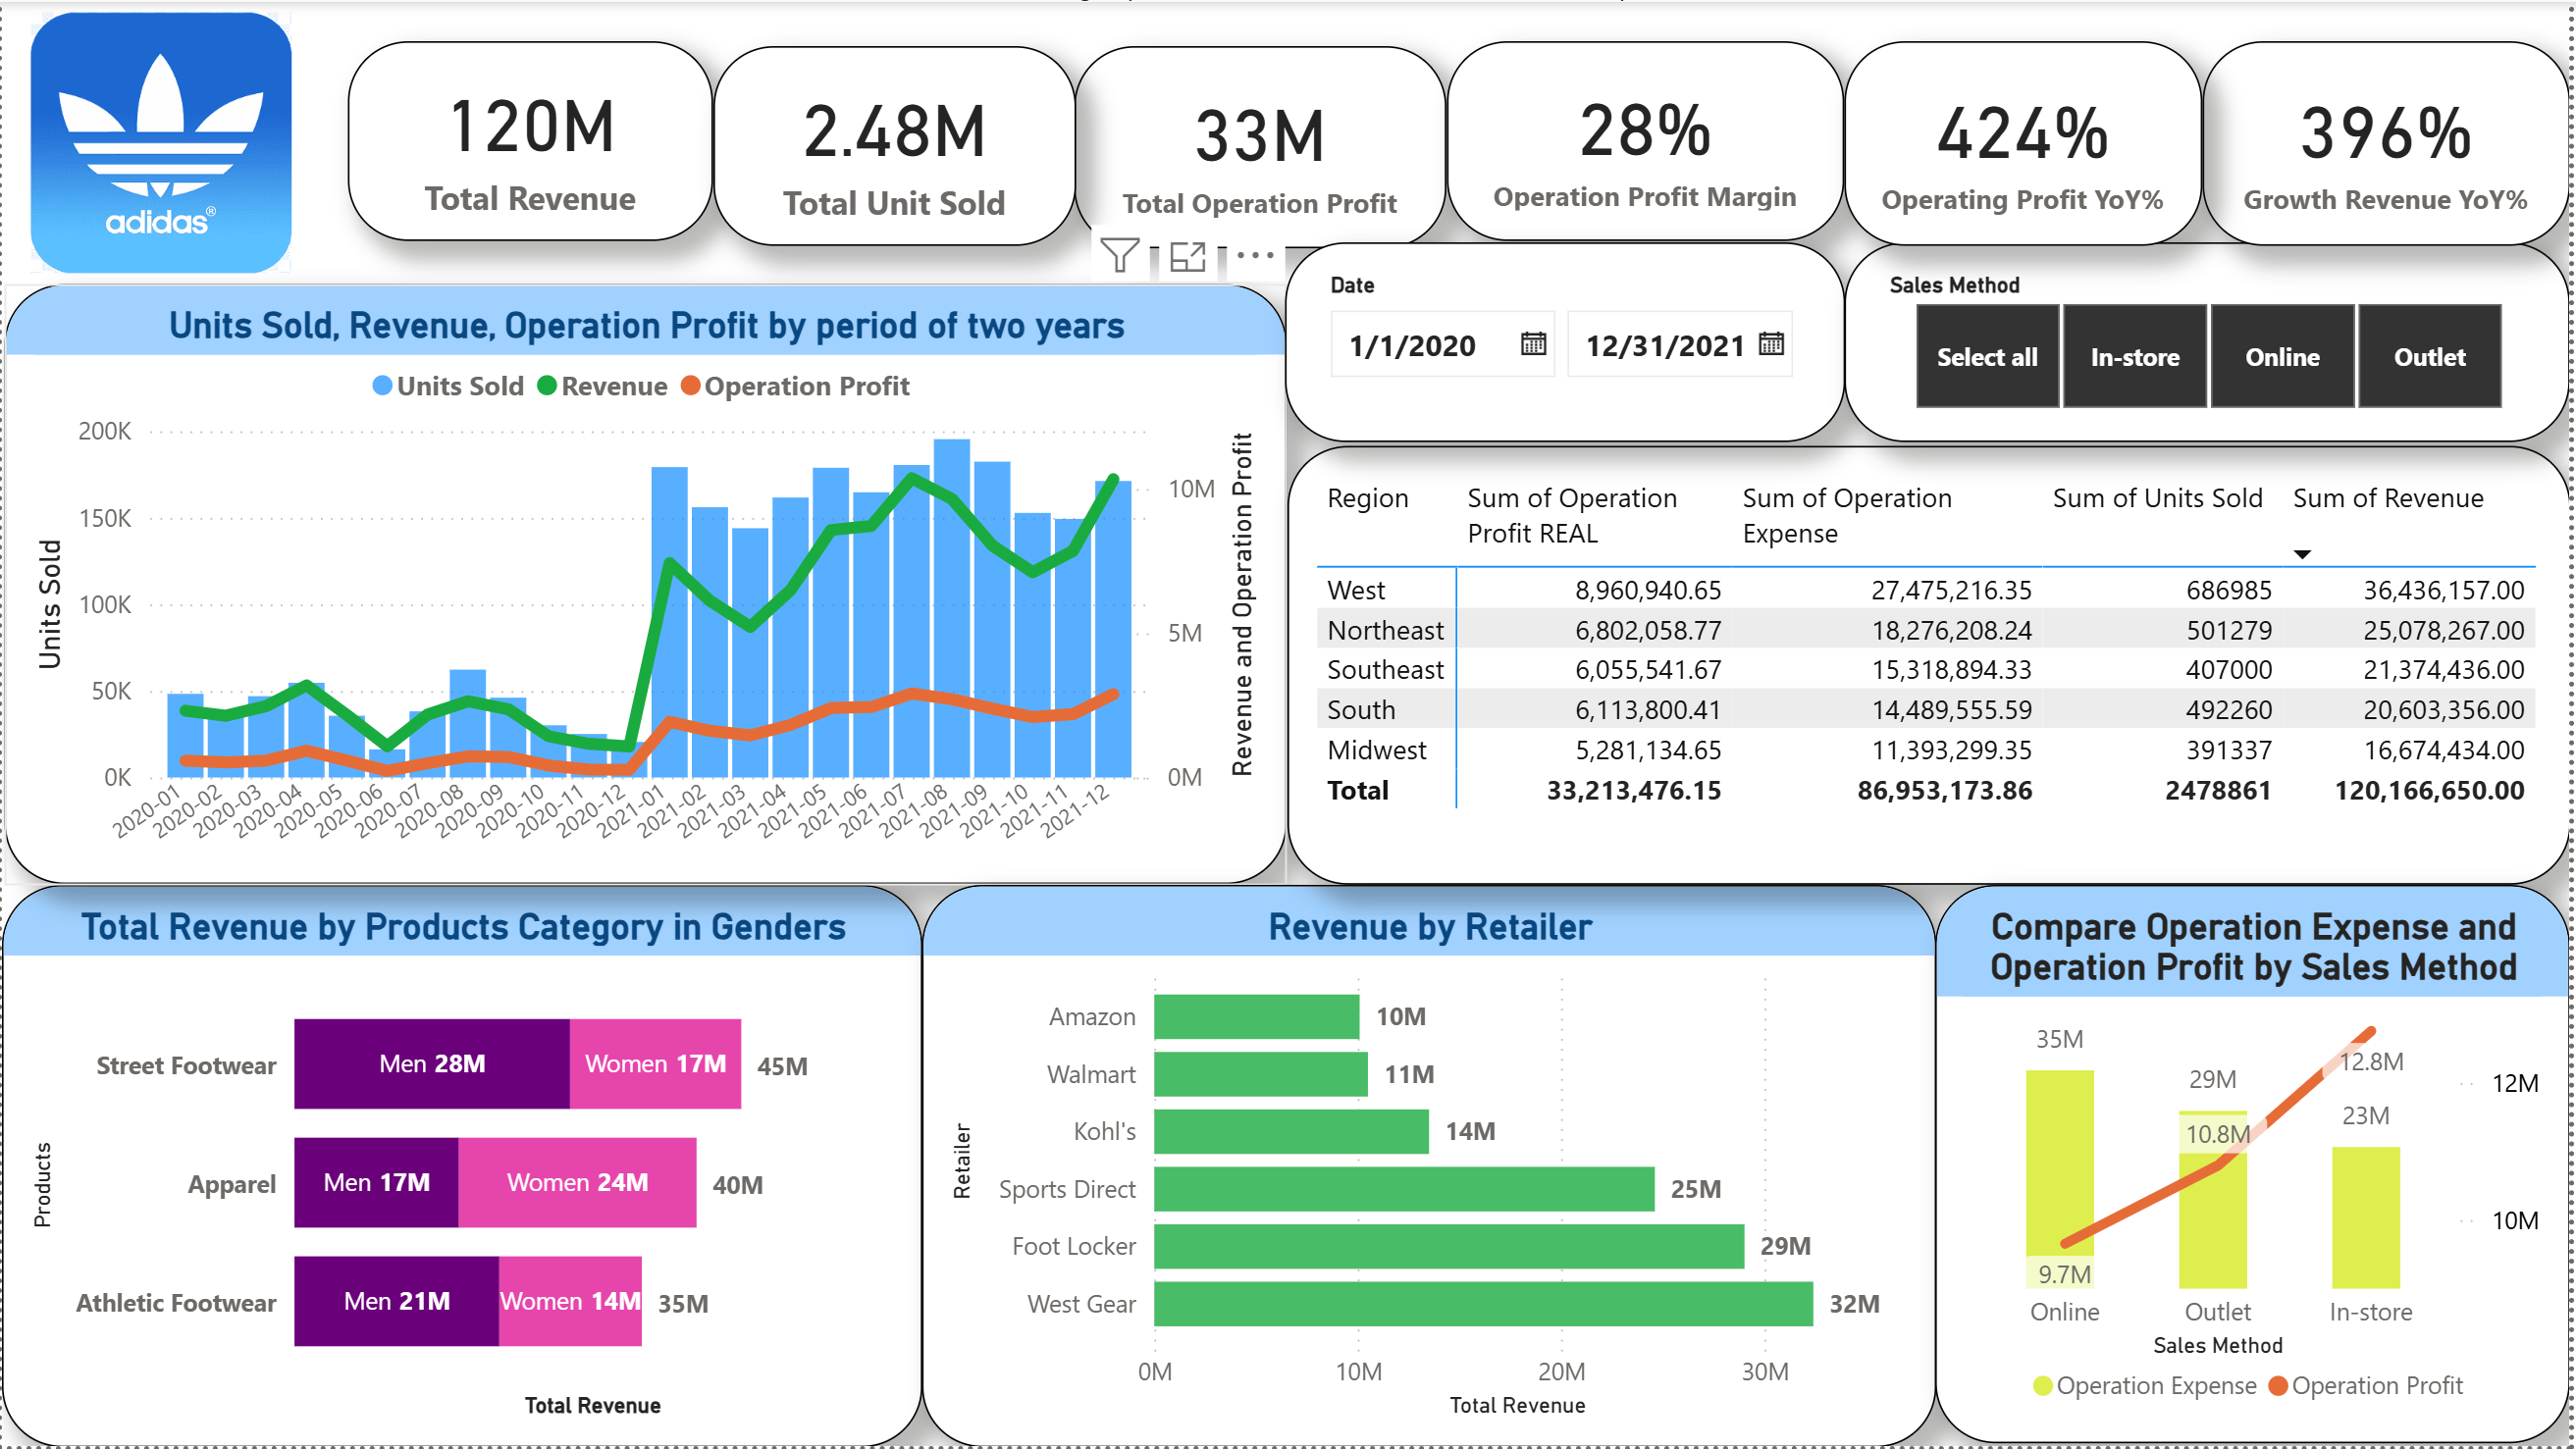

What the dashboard file says about the page in this screenshot:
{"tool":"powerbi","page":{"name":"CEO","canvas":[1280,720],"ordinal":0},"visuals":[{"type":"card","fields":{"Values":["measure list.Total Operation Profit"]},"box":[535,22.1,185.7,100.8],"z":0},{"type":"card","fields":{"Values":["measure list.Total Revenue"]},"box":[172.2,19.7,182,99.6],"z":1000},{"type":"card","fields":{"Values":["measure list.Operation Profit Margin"]},"box":[720.7,19.7,198,99.6],"z":2000},{"type":"card","fields":{"Values":["measure list.Total Unit Sold"]},"box":[354.2,22.1,180.8,99.6],"z":3000},{"type":"barChart","title":"Total Revenue by Products Category in Genders","fields":{"Category":["Data Sales Adidas.Product Sub-Category"],"Series":["Data Sales Adidas.Product Category"],"Y":["Sum(Data Sales Adidas.Revenue)"]},"box":[0,440.3,458.7,280.4],"z":4000},{"type":"lineClusteredColumnComboChart","title":"Units Sold, Revenue, Operation Profit by period of two years","fields":{"Category":["DimDate.Year Month"],"Y":["Sum(Data Sales Adidas.Units Sold)"],"Y2":["Sum(Data Sales Adidas.Revenue)","Sum(Data Sales Adidas.Operation Profit REAL)"]},"box":[1.2,141.1,639.3,299.4],"z":6000},{"type":"barChart","title":"Revenue by Retailer","fields":{"Category":["Data Sales Adidas.Retailer"],"Y":["Sum(Data Sales Adidas.Revenue)"]},"box":[458.7,440.3,505.5,280.4],"z":7000},{"type":"pivotTable","title":"Revenue and Operation Profit by Region","fields":{"Rows":["Data Sales Adidas.Region"],"Values":["Sum(Data Sales Adidas.Operation Profit REAL)","Sum(Data Sales Adidas.Operation Expense)","Sum(Data Sales Adidas.Units Sold)","Sum(Data Sales Adidas.Revenue)"]},"box":[640.7,221.4,639.5,218.9],"z":8000},{"type":"slicer","fields":{"Values":["DimDate.Date"]},"box":[639.5,119.3,279.2,99.6],"z":9000},{"type":"slicer","fields":{"Values":["Data Sales Adidas.Sales Method"]},"box":[918.7,119.3,361.6,99.6],"z":10000},{"type":"lineClusteredColumnComboChart","title":" Compare Operation Expense  and Operation Profit by Sales Method","fields":{"Category":["Data Sales Adidas.Sales Method"],"Y":["Sum(Data Sales Adidas.Operation Expense)"],"Y2":["Sum(Data Sales Adidas.Operation Profit REAL)"]},"box":[963.2,440.5,316.6,278.5],"z":12000},{"type":"card","fields":{"Values":["measure list.Revenue YoY%"]},"box":[1097,19.7,183.2,102.1],"z":12001},{"type":"image","box":[0,0,158.6,140.2],"z":12002},{"type":"card","fields":{"Values":["measure list.Operating Profit YoY%"]},"box":[918.7,19.7,178.3,102.1],"z":12003}]}

Visuals, with their boxes in screenshot pixels (x1, y1, x2, y2), scaled from the page's 1280x720 canvas onto the 2576x1449 screenshot:
card - measure list.Total Operation Profit: bbox=(1077, 44, 1450, 247)
card - measure list.Total Revenue: bbox=(346, 39, 712, 240)
card - measure list.Operation Profit Margin: bbox=(1450, 39, 1849, 240)
card - measure list.Total Unit Sold: bbox=(712, 44, 1077, 245)
"Total Revenue by Products Category in Genders" barChart: bbox=(0, 886, 923, 1448)
"Units Sold, Revenue, Operation Profit by period of two years" lineClusteredColumnComboChart: bbox=(2, 284, 1289, 887)
"Revenue by Retailer" barChart: bbox=(923, 886, 1940, 1448)
"Revenue and Operation Profit by Region" pivotTable: bbox=(1289, 445, 2575, 886)
slicer - DimDate.Date: bbox=(1287, 240, 1849, 440)
slicer - Data Sales Adidas.Sales Method: bbox=(1849, 240, 2575, 440)
" Compare Operation Expense  and Operation Profit by Sales Method" lineClusteredColumnComboChart: bbox=(1938, 887, 2575, 1447)
card - measure list.Revenue YoY%: bbox=(2208, 39, 2575, 245)
image: bbox=(0, 0, 319, 283)
card - measure list.Operating Profit YoY%: bbox=(1849, 39, 2208, 245)
